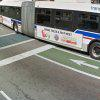Bus: (4, 1, 100, 56)
